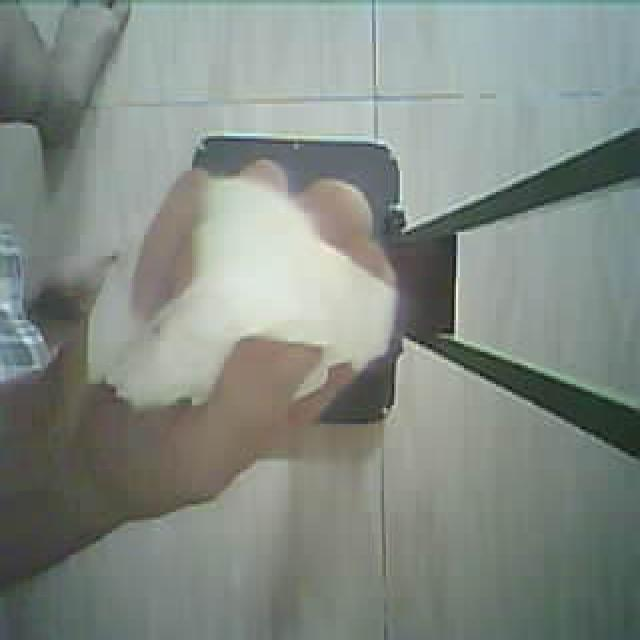Paper: (87, 134, 386, 466)
